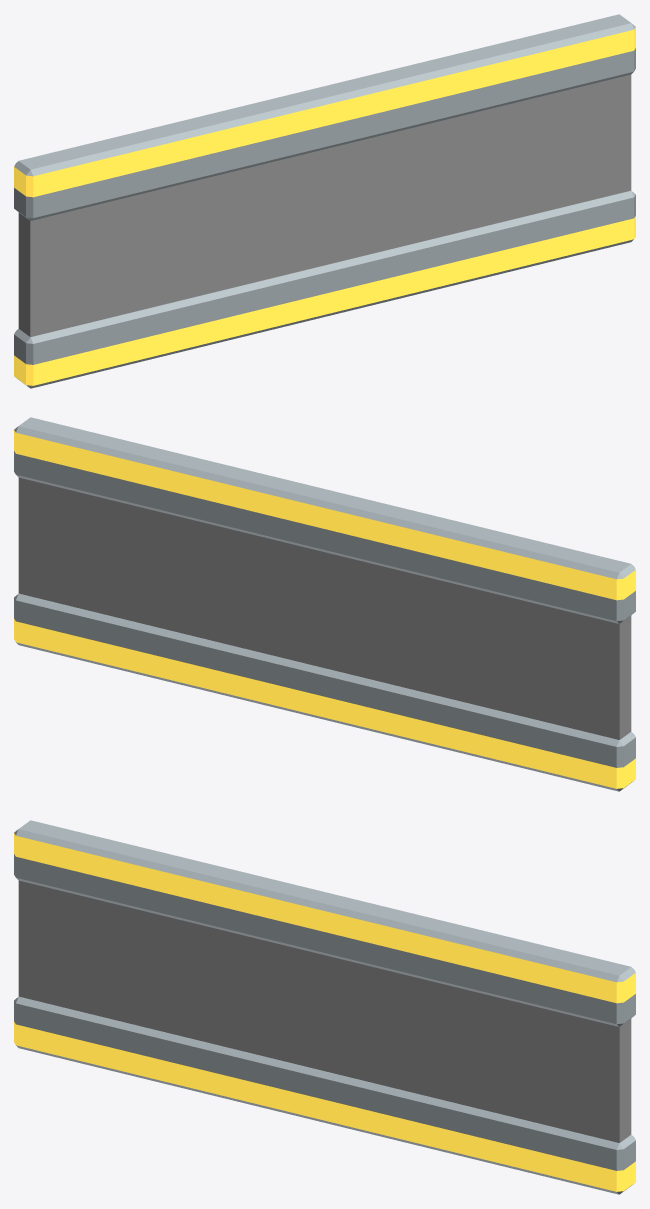
The model's file is SM_WallrunWall_v1.fbx.
The picture shows the model from 3 angles, top to bottom: view 1: azimuth 30°, elevation 25°; view 2: azimuth 150°, elevation 25°; view 3: azimuth 330°, elevation 25°; orthographic projection.
Parts seen in each view (by area): view 1: SM_WallrunWall_Hologram_v1, SM_WallrunWall_UpperStructure_v1, SM_WallrunWall_LowerStructure_v1; view 2: SM_WallrunWall_Hologram_v1, SM_WallrunWall_UpperStructure_v1, SM_WallrunWall_LowerStructure_v1; view 3: SM_WallrunWall_Hologram_v1, SM_WallrunWall_UpperStructure_v1, SM_WallrunWall_LowerStructure_v1.
Part boxes in pixels (bbox=[...]): SM_WallrunWall_Hologram_v1: bbox=[18, 74, 631, 336]; SM_WallrunWall_UpperStructure_v1: bbox=[14, 14, 635, 220]; SM_WallrunWall_LowerStructure_v1: bbox=[14, 190, 635, 388]; SM_WallrunWall_Hologram_v1: bbox=[18, 477, 631, 739]; SM_WallrunWall_UpperStructure_v1: bbox=[14, 417, 635, 623]; SM_WallrunWall_LowerStructure_v1: bbox=[14, 593, 635, 791]; SM_WallrunWall_Hologram_v1: bbox=[18, 880, 631, 1142]; SM_WallrunWall_UpperStructure_v1: bbox=[14, 820, 635, 1026]; SM_WallrunWall_LowerStructure_v1: bbox=[14, 996, 635, 1194].
Size of what is drawn, in the model's own units: 3.04 by 1.04 by 0.15.
